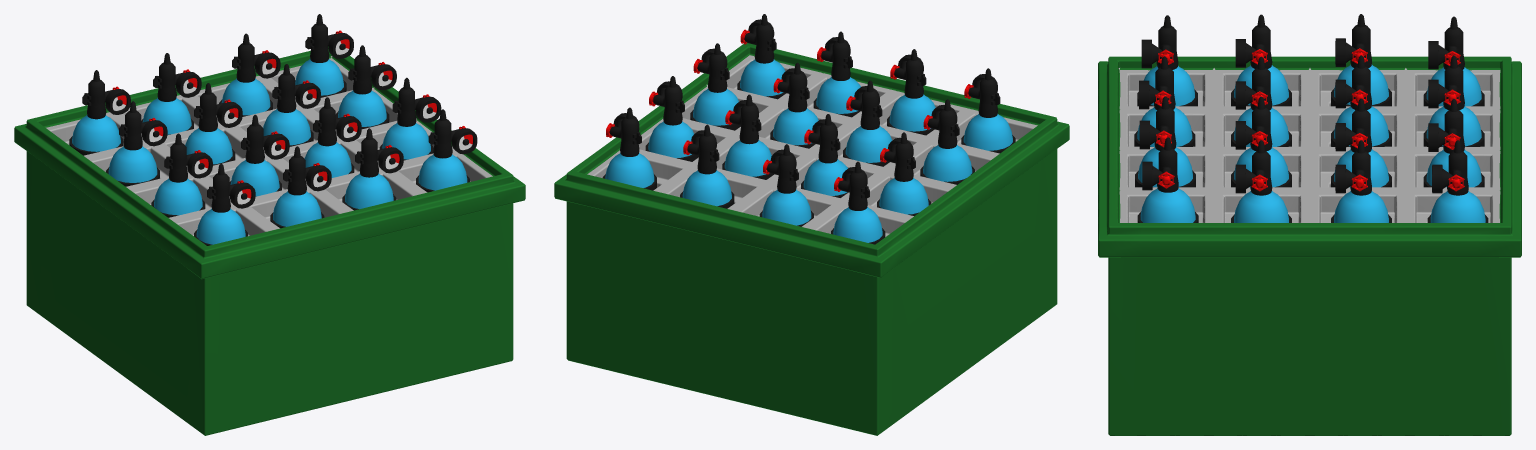
The model's file is Oxygen_tank_box.fbx.
The picture shows the model from 3 angles, left to right: view 1: azimuth 30°, elevation 25°; view 2: azimuth 150°, elevation 25°; view 3: azimuth 270°, elevation 25°; orthographic projection. The views are drawn at different scales.
Parts seen in each view (by area): view 1: Box002; view 2: Box002; view 3: Box002.
Boxes of the visible parts, left/top/right/bottom form: Box002: left=14, top=14, right=525, bottom=435; Box002: left=554, top=14, right=1069, bottom=435; Box002: left=1098, top=14, right=1521, bottom=435.
Size of the model in its own units: 210 by 150 by 210.
